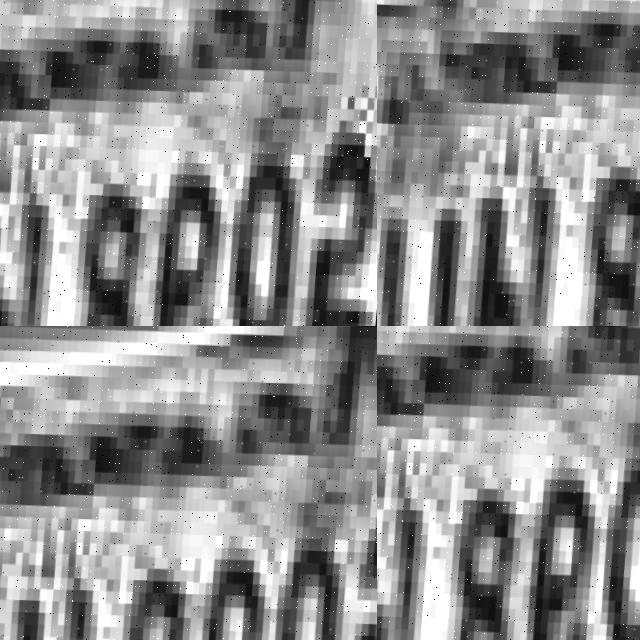license-plate: (0, 0, 377, 326), (0, 326, 377, 640), (377, 326, 640, 640)
